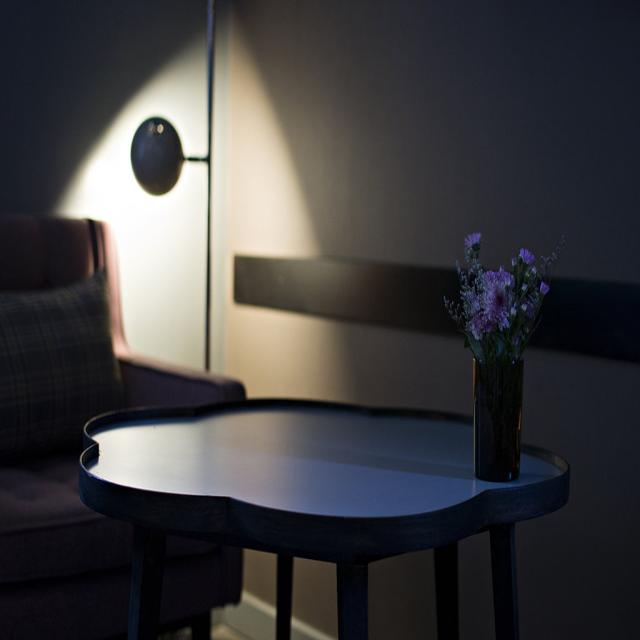Table: (53, 329, 562, 640)
chair: (2, 194, 228, 640)
